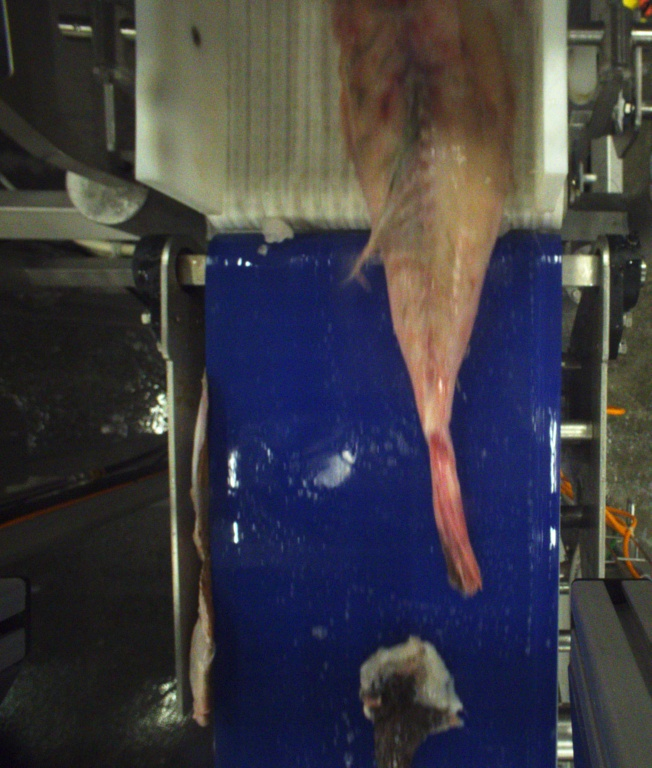ANF: (330, 0, 511, 597)
